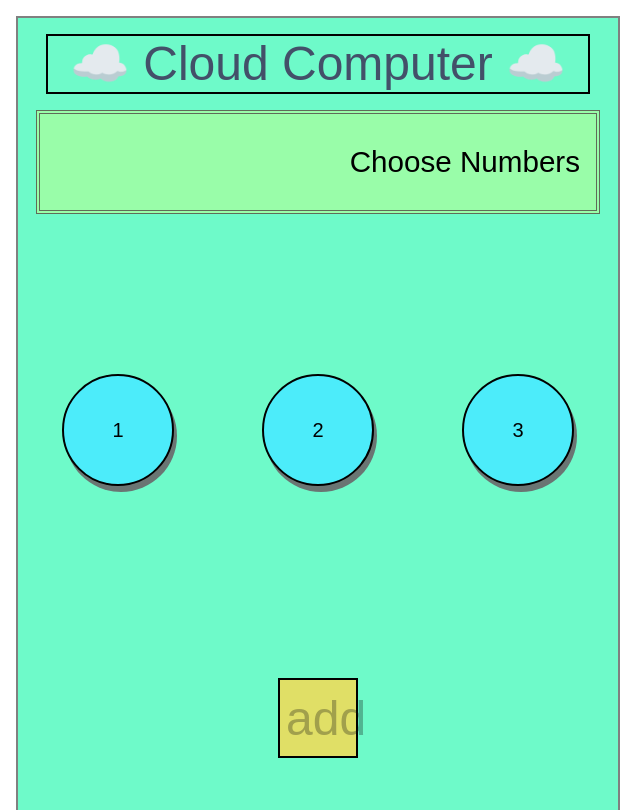
Test case: Calculator Component › removes the number from the display if clicked twice to deselect
This screenshot has width=637, height=810.
Click the button "1": point(118, 430) [62,374,174,486]
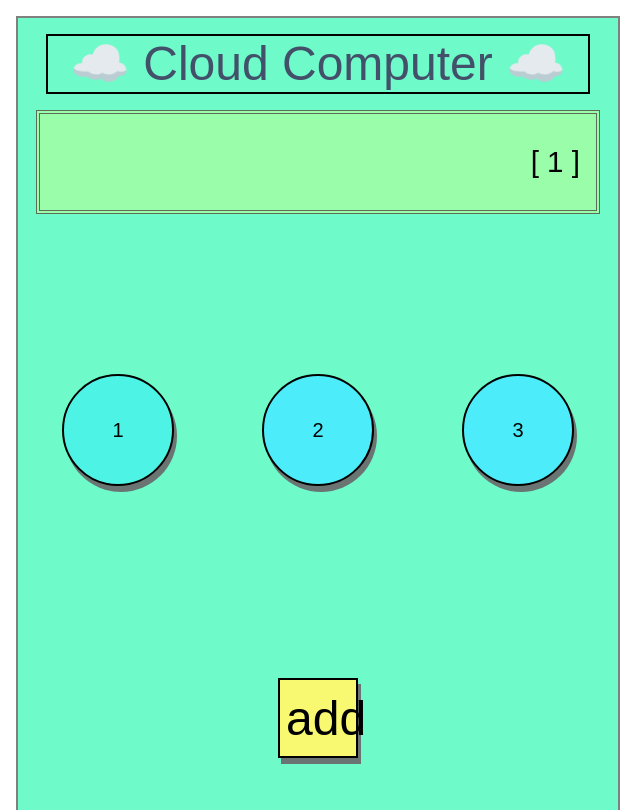
Expected: the text "[ 1 ]" is shown, [36,110,600,214]
Click the button "1": point(118, 430) [62,374,174,486]
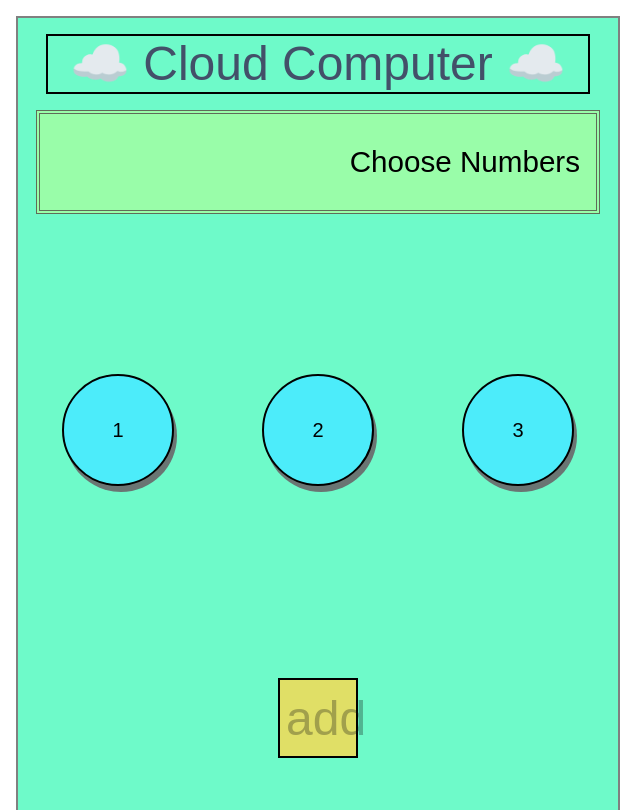
Expected: the text "Choose Numbers" is shown, [36,110,600,214]
